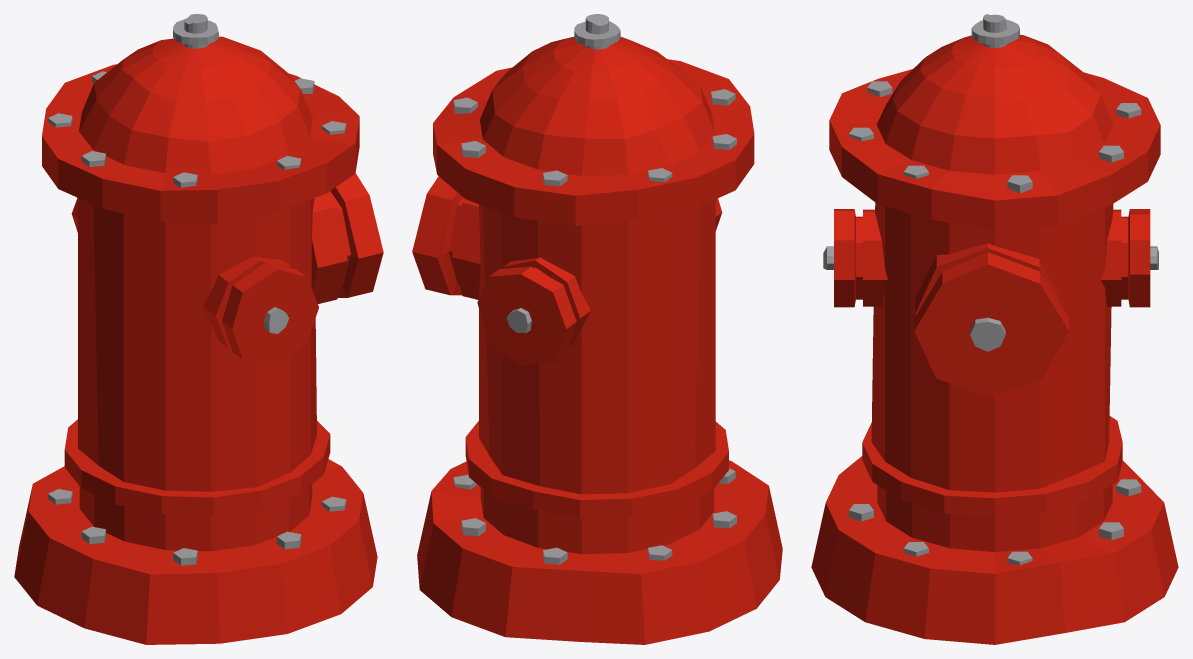
The model's file is Hydrant.fbx.
The picture shows the model from 3 angles, left to right: view 1: azimuth 30°, elevation 25°; view 2: azimuth 150°, elevation 25°; view 3: azimuth 270°, elevation 25°; orthographic projection.
Visible parts, largest first — view 1: Cylinder.1250; view 2: Cylinder.1250; view 3: Cylinder.1250.
Part boxes in pixels (left/top/right/bottom): Cylinder.1250: left=14, top=14, right=383, bottom=644; Cylinder.1250: left=412, top=14, right=782, bottom=644; Cylinder.1250: left=811, top=14, right=1178, bottom=644.
Bounding box in the file's own units: 96.67 × 160 × 96.67.
1 material, 1 textured.
